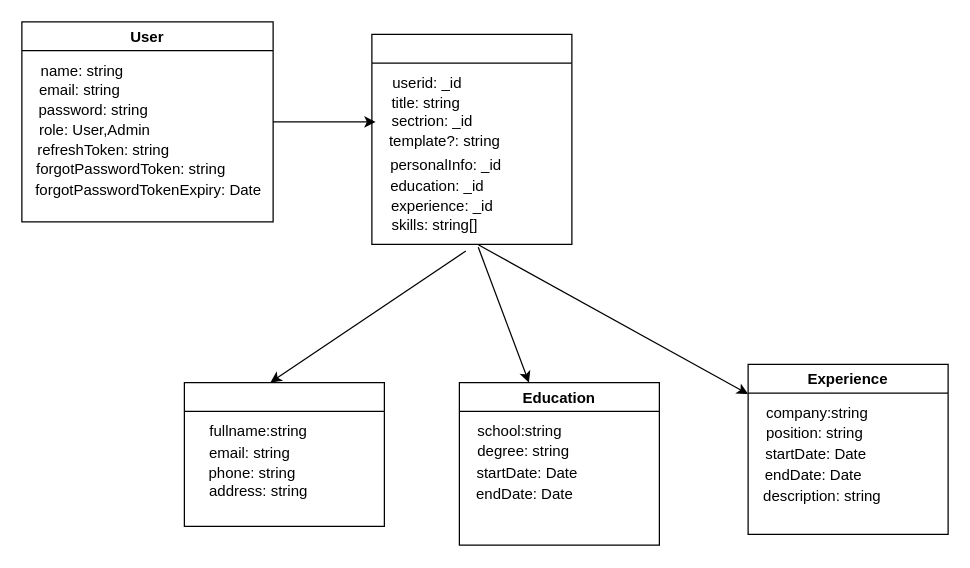
The diagram is 970 pixels wide and 568 high, and some of its shapes have lost their labels. Each missing label, with the box of its shape:
Personal Info: (183, 381, 384, 526)
Resume: (371, 33, 572, 244)
